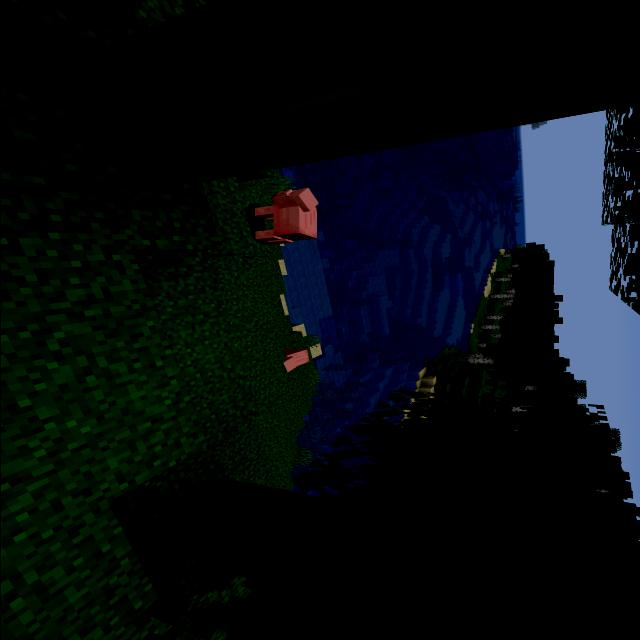pig: (238, 184, 328, 252), (267, 346, 312, 376)
